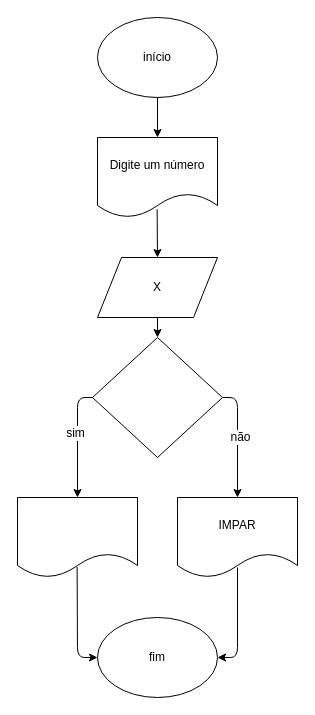
Some shapes in this 315 by 715 pixel diagram are drawn without their labels. Here are the shapes that lost their labels. From the top down, the box of each, then its label:
(92, 336, 222, 458): o resto da divisão entre x e 2 é igual a 0?
(16, 496, 138, 578): PAR
